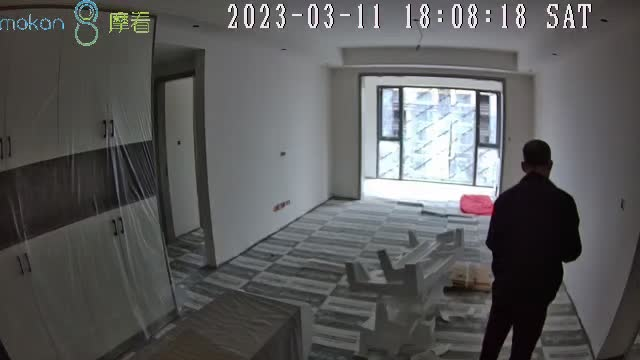people: (480, 139, 582, 360)
window: (377, 84, 498, 187)
